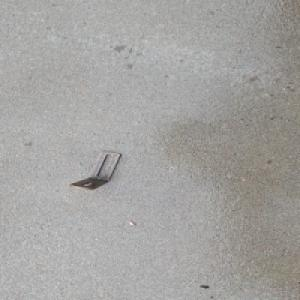MetalPart: (68, 150, 122, 190)
